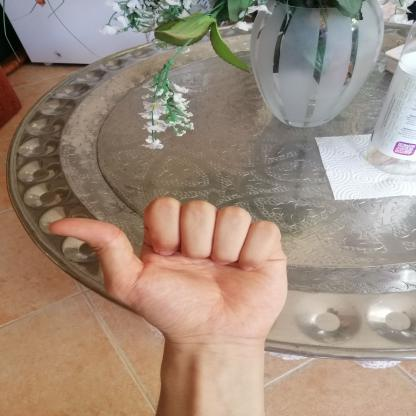DAD: (38, 186, 300, 350)
